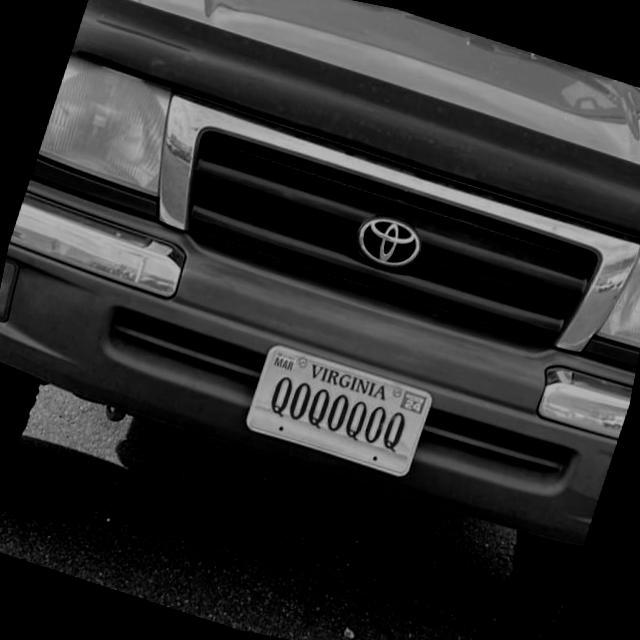LicensePlate: (244, 342, 432, 476)
